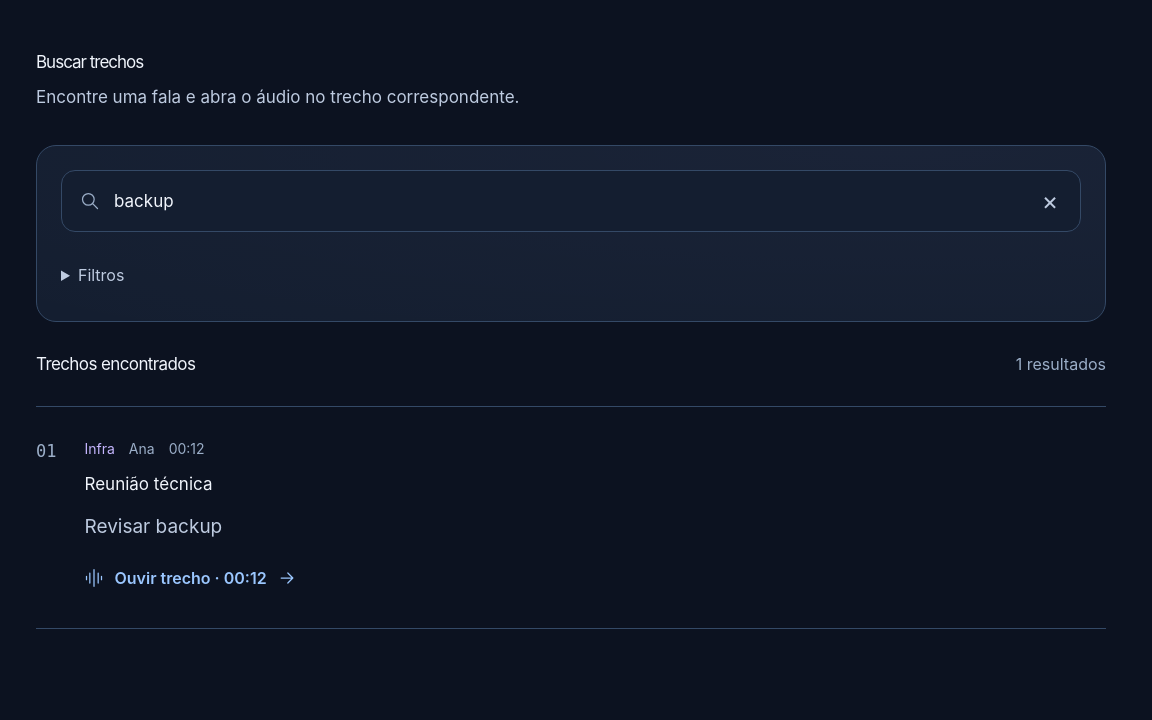
Test case: search results point to the exact segment and expose a clear action
Click the button named "Limpar busca".
click(1050, 201)  # box [1030, 181, 1070, 221]
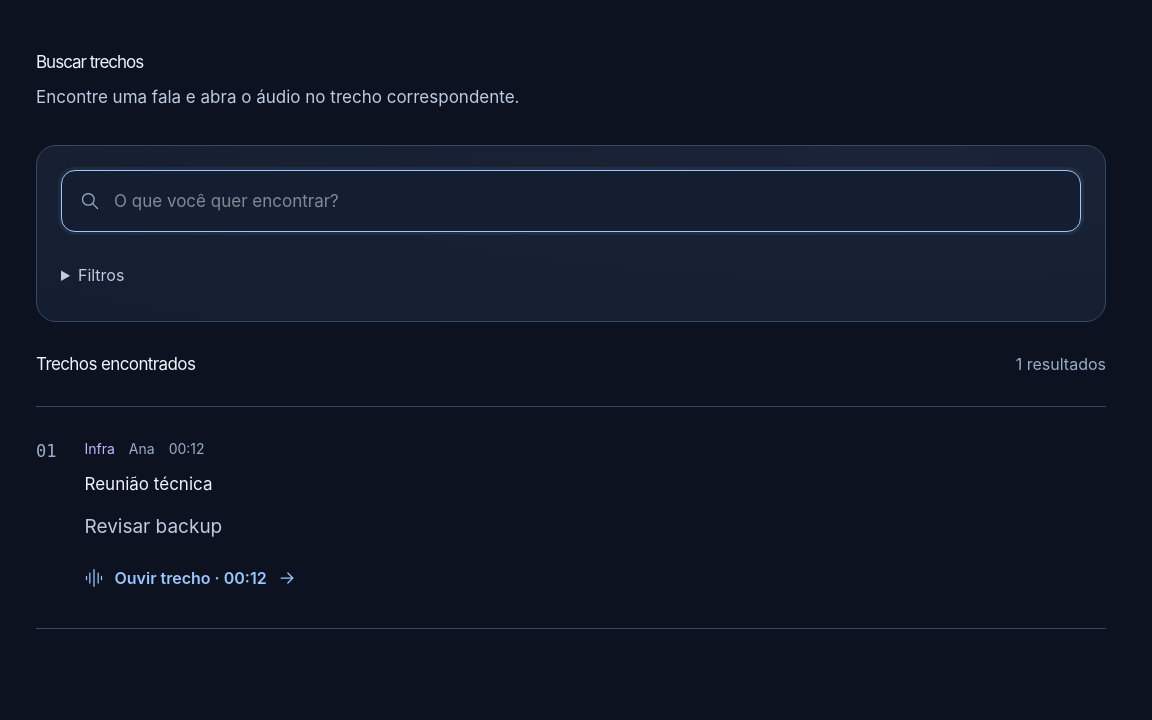
Check: the search field is empty, box [114, 177, 1070, 225]
